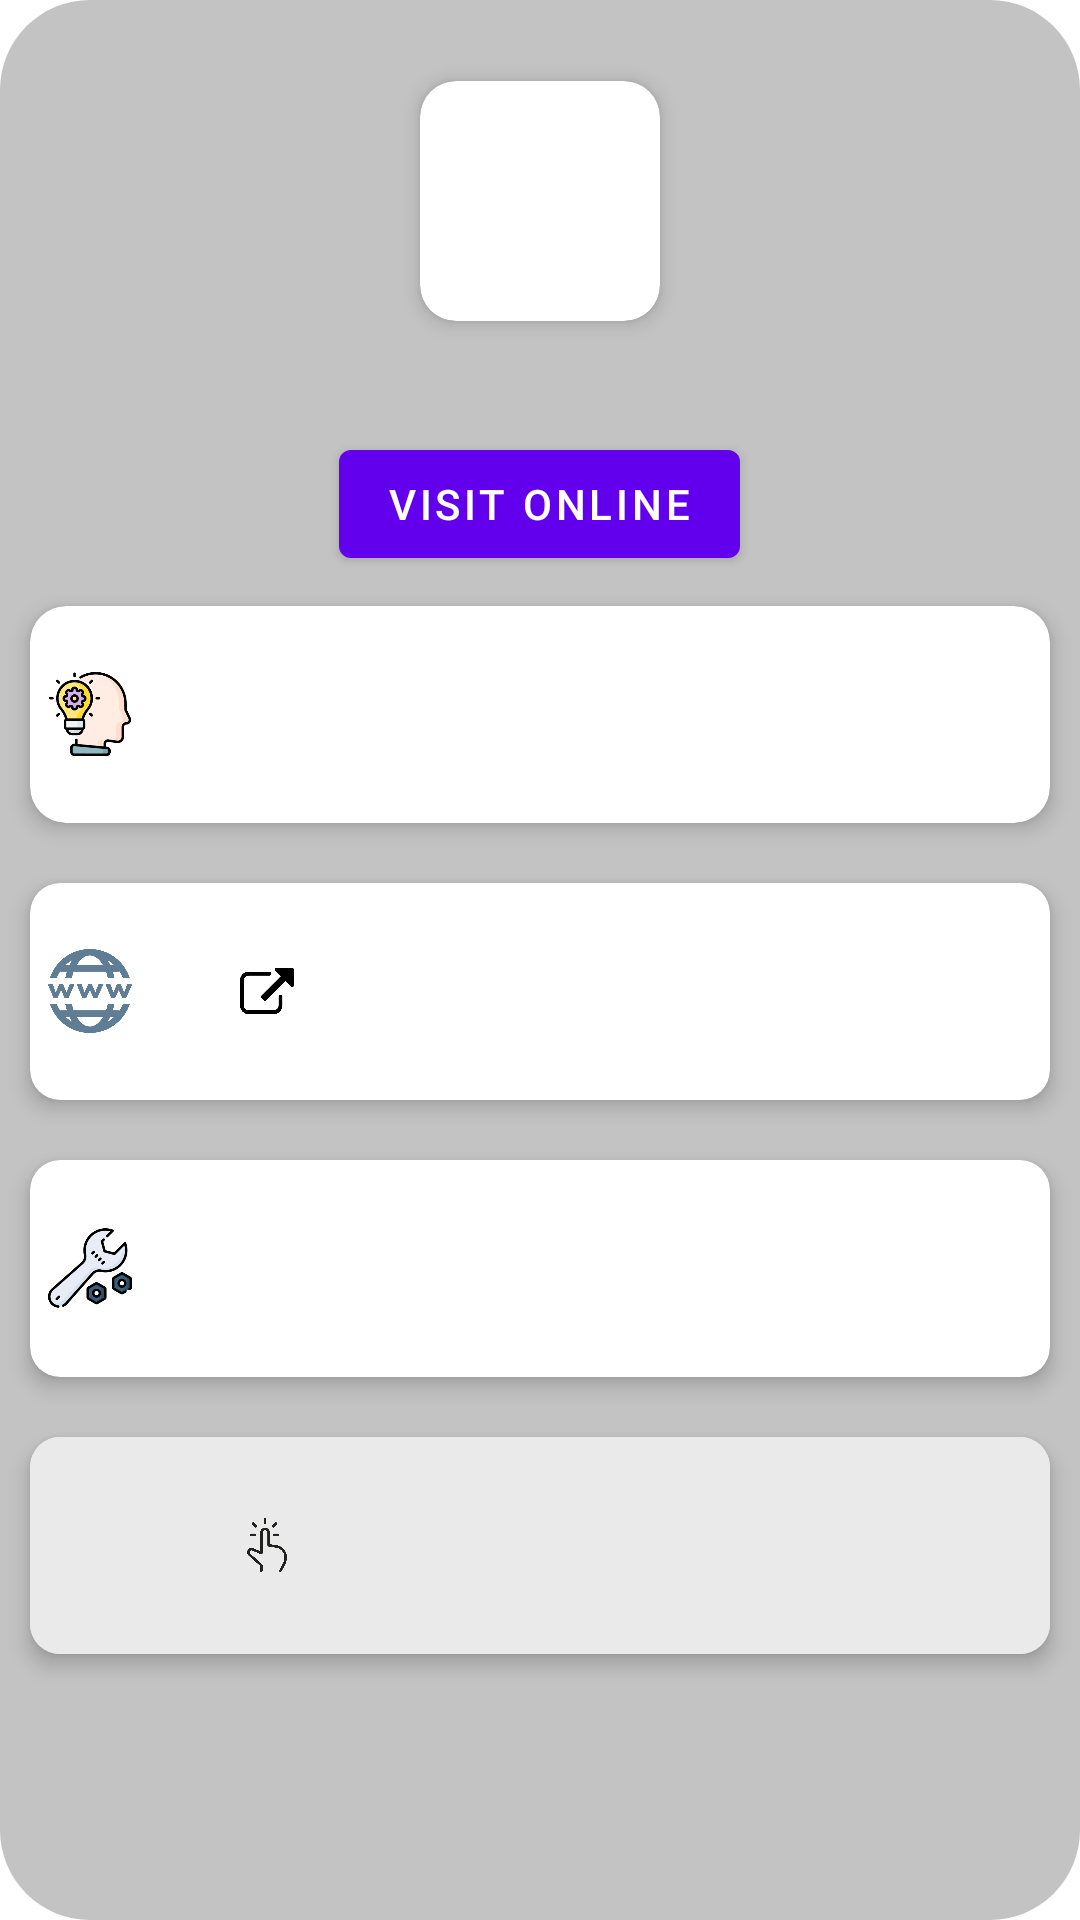

Screen size 1080*1920. Icon name, then its box in pixels as (x1, y1, x2, y2):
click: (247, 1518, 287, 1572)
link: (240, 968, 294, 1014)
Tools Icon: (48, 1228, 132, 1308)
Website Icon: (48, 949, 132, 1033)
